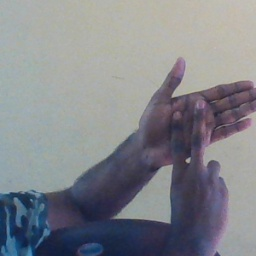N: (132, 54, 256, 216)
